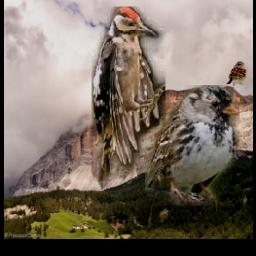Sparrow: (146, 85, 240, 206), (227, 62, 247, 89)
Woodpecker: (91, 7, 165, 182)
